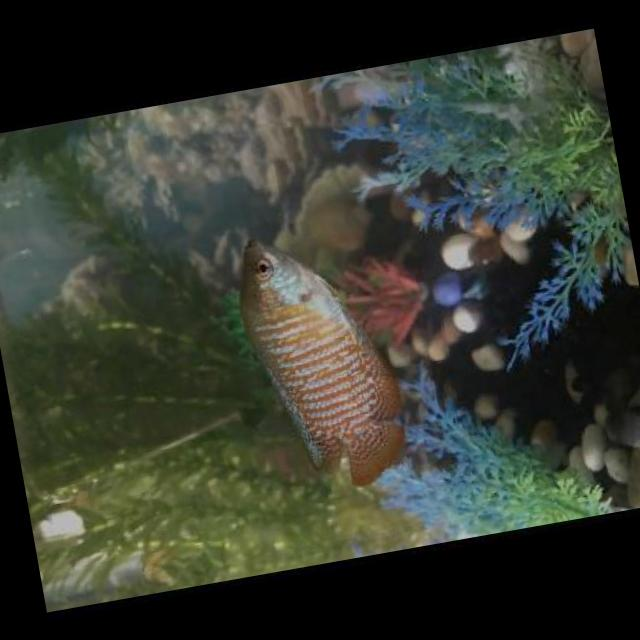Gourami: (228, 220, 411, 498)
